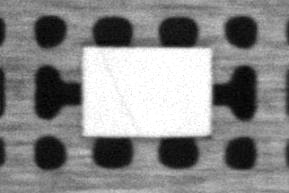DIE_CRACK: (101, 53, 137, 129)
